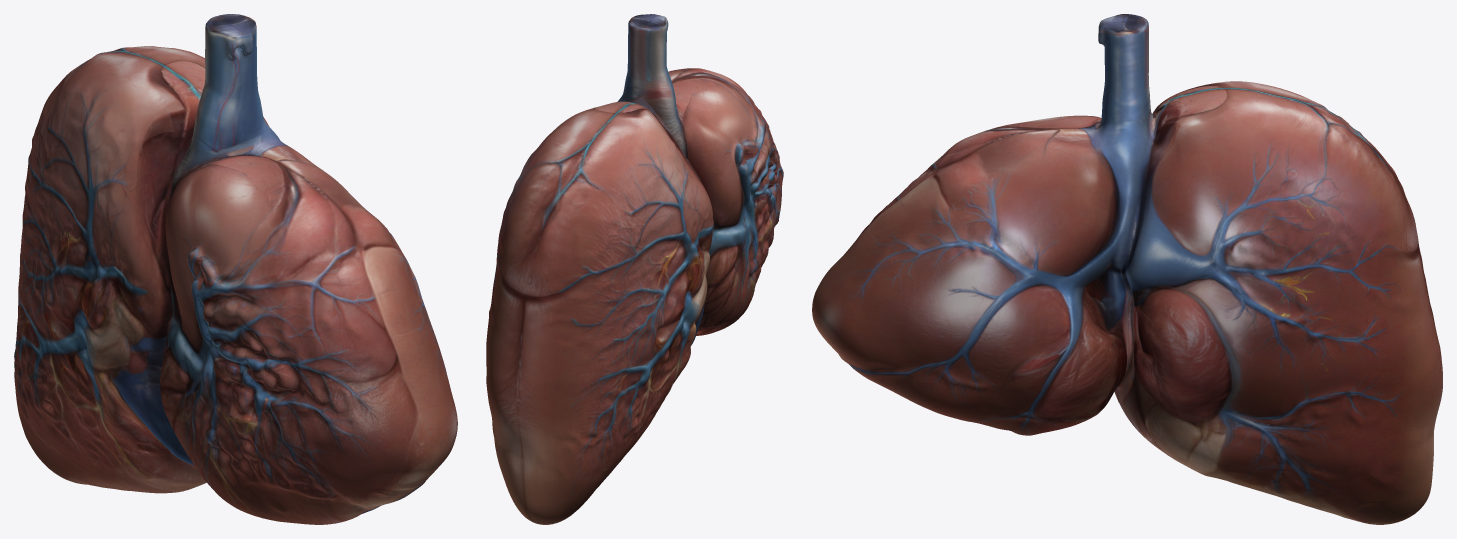
File: HATILIVER.glb
The picture shows the model from 3 angles, left to right: view 1: azimuth 30°, elevation 25°; view 2: azimuth 150°, elevation 25°; view 3: azimuth 270°, elevation 25°; orthographic projection. The views are drawn at different scales.
Size of the model in its own units: 0.6718 by 1.76 by 2.
Materials: 1 (1 with a texture image).
